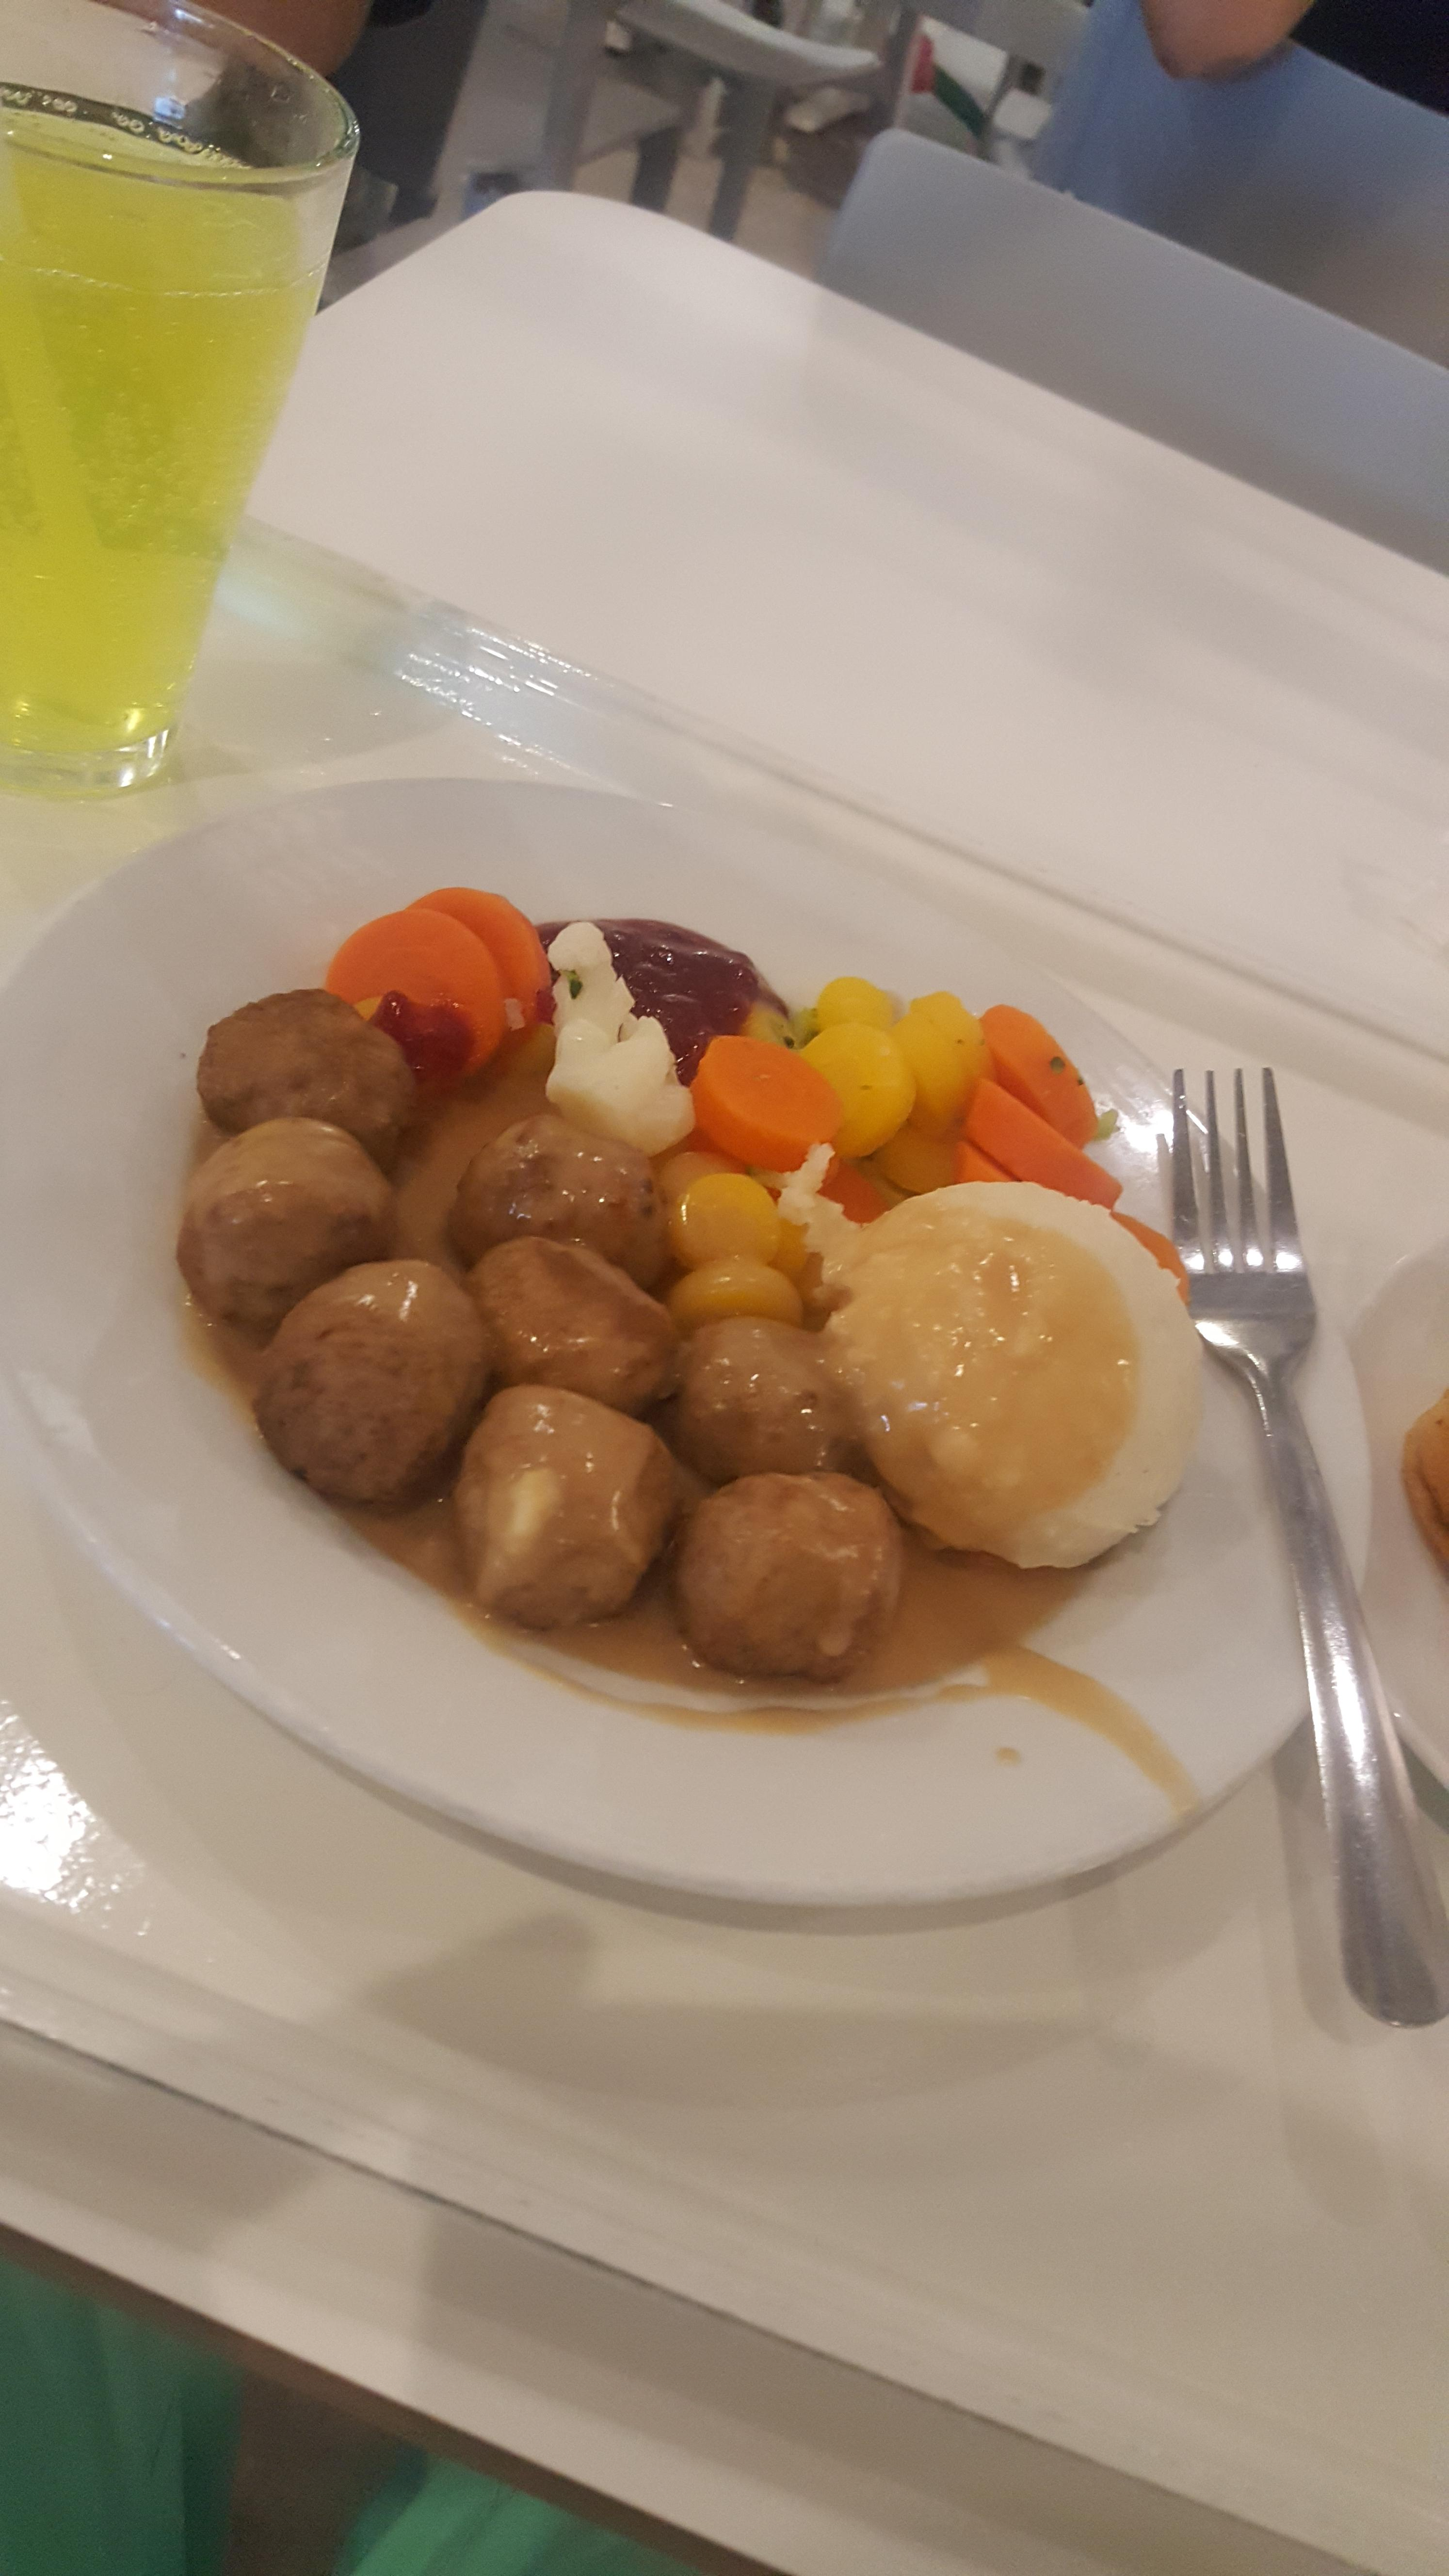meatballs: (184, 1014, 876, 1679)
